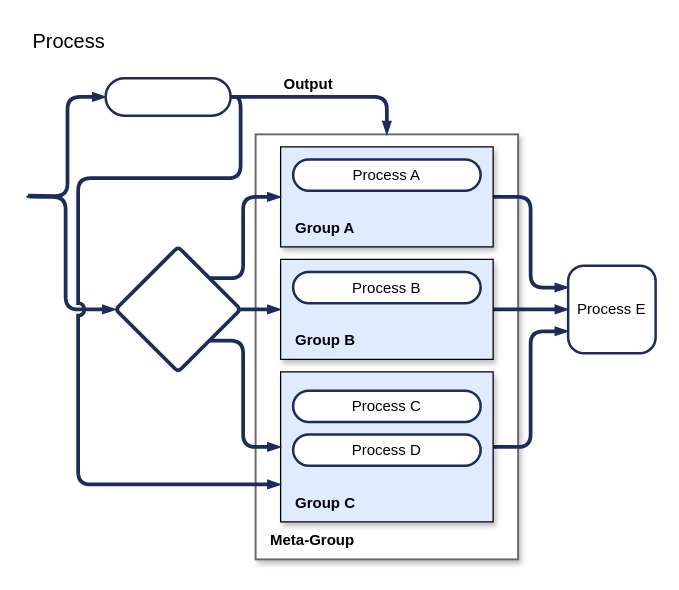
Some shapes in this 679 by 590 pixel diagram are drawn without their labels. Here are the shapes that lost their labels. From the top down, the centre of each, then its label:
At (167,96): "Preprocess".
At (177,308): "Selector".
